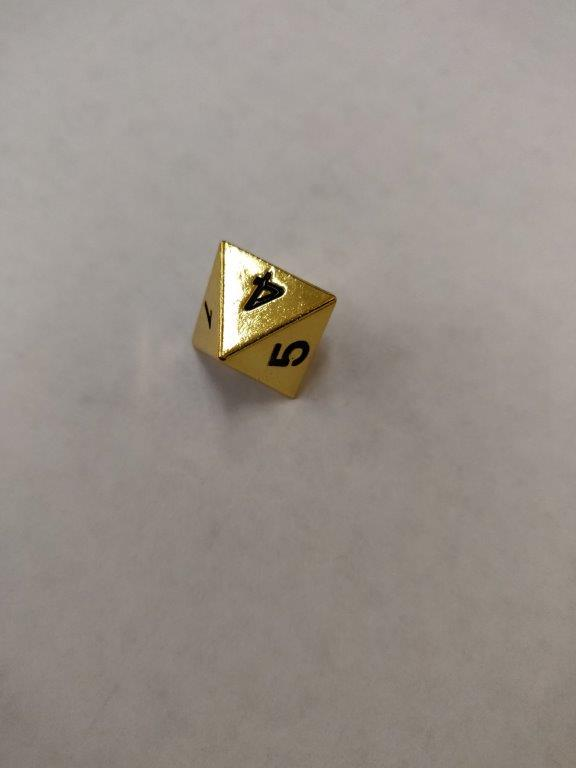d8-4: (188, 239, 339, 402)
